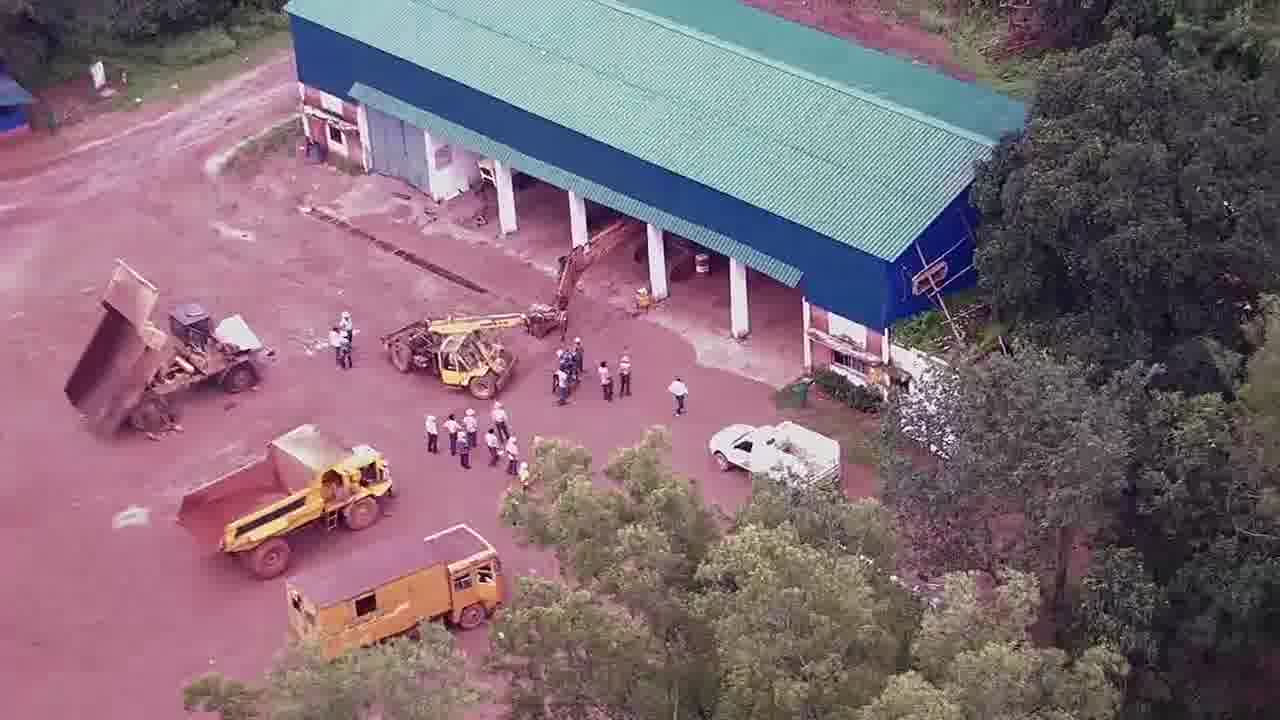HMV: (177, 407, 391, 573), (73, 247, 246, 438), (287, 521, 499, 662)
LMV: (710, 418, 840, 495)
Person: (667, 374, 691, 421), (323, 324, 343, 371), (422, 412, 441, 460), (597, 360, 615, 405), (490, 401, 509, 443), (553, 364, 571, 407), (453, 429, 472, 468), (338, 333, 354, 375), (616, 355, 634, 392), (517, 462, 533, 502), (341, 310, 355, 355), (444, 413, 459, 454), (464, 408, 478, 451), (572, 334, 586, 377), (505, 436, 519, 478), (483, 430, 502, 460)
